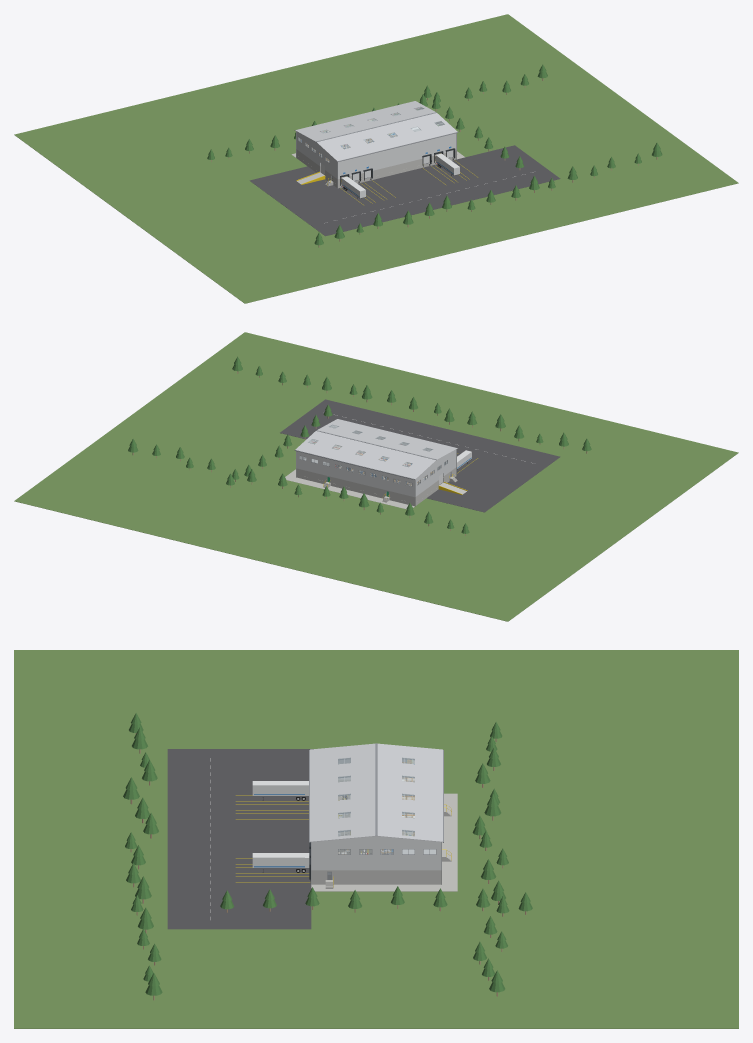
Rendered from almacen_medicamentos.glb.
The picture shows the model from 3 angles, top to bottom: view 1: azimuth 30°, elevation 25°; view 2: azimuth 150°, elevation 25°; view 3: azimuth 270°, elevation 25°; orthographic projection. The views are drawn at different scales.
Visible parts, largest first — view 1: Ground_Grass, Yard_Asphalt, Roof_Panels, Wall_South, Wall_West; view 2: Ground_Grass, Yard_Asphalt, Roof_Panels, Wall_North, Wall_West, Building_Foundation; view 3: Ground_Grass, Yard_Asphalt, Roof_Panels, Wall_East, Trailer_D02, Trailer_R01, Roof_Skylights, Yard_Dock_Guides, Building_Foundation.
Boxes of the visible parts, left/top/right/bottom form: Ground_Grass: left=14, top=14, right=738, bottom=303; Yard_Asphalt: left=249, top=145, right=560, bottom=236; Roof_Panels: left=294, top=101, right=458, bottom=188; Wall_South: left=337, top=133, right=456, bottom=185; Wall_West: left=296, top=132, right=337, bottom=184; Ground_Grass: left=14, top=332, right=738, bottom=621; Yard_Asphalt: left=280, top=399, right=560, bottom=512; Roof_Panels: left=294, top=419, right=458, bottom=506; Wall_North: left=296, top=451, right=415, bottom=503; Wall_West: left=415, top=450, right=456, bottom=502; Building_Foundation: left=296, top=473, right=456, bottom=506; Ground_Grass: left=14, top=650, right=738, bottom=1028; Yard_Asphalt: left=167, top=749, right=457, bottom=929; Roof_Panels: left=309, top=743, right=443, bottom=884; Wall_East: left=312, top=836, right=440, bottom=879; Trailer_D02: left=252, top=853, right=309, bottom=872; Trailer_R01: left=252, top=781, right=308, bottom=800; Roof_Skylights: left=338, top=757, right=414, bottom=835; Yard_Dock_Guides: left=210, top=758, right=309, bottom=919; Building_Foundation: left=311, top=880, right=441, bottom=884.
Size of the model in its own units: 210 by 13 by 170.
57 materials, 6 textured.
